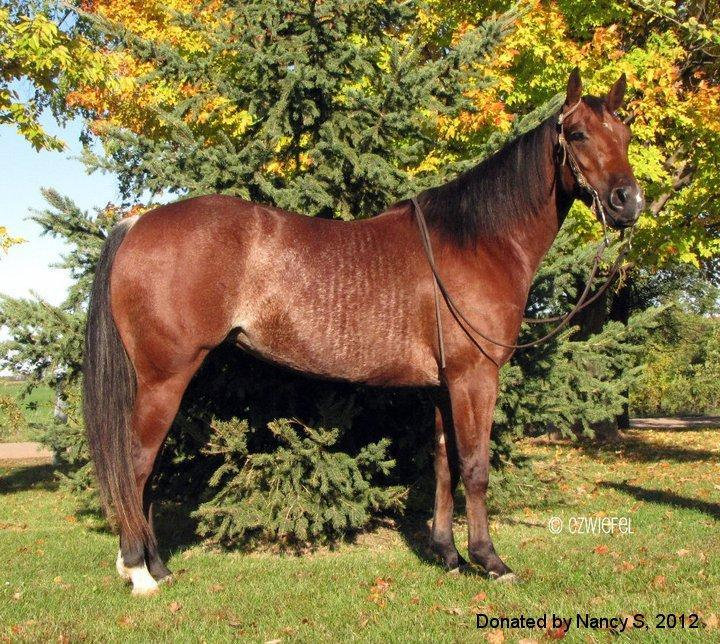horse: (68, 63, 651, 608)
